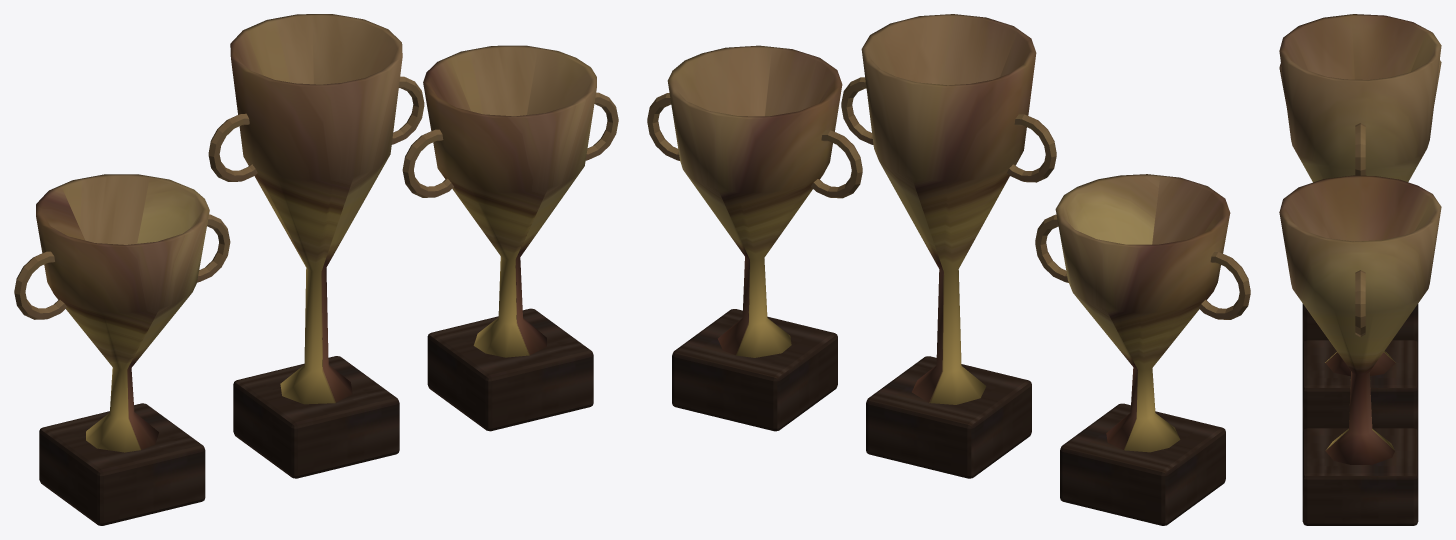
Rendered from SP21_TrophyCups.glb.
The picture shows the model from 3 angles, left to right: view 1: azimuth 30°, elevation 25°; view 2: azimuth 150°, elevation 25°; view 3: azimuth 270°, elevation 25°; orthographic projection. The views are drawn at different scales.
Parts seen in each view (by area): view 1: SP21_TrophyCups; view 2: SP21_TrophyCups; view 3: SP21_TrophyCups.
Boxes of the visible parts, x1,y1,x2,y2 form: SP21_TrophyCups: [14, 14, 618, 525]; SP21_TrophyCups: [647, 14, 1250, 525]; SP21_TrophyCups: [1279, 14, 1441, 525].
Size of the model in its own units: 0.4 by 0.25 by 0.1001.
Materials: 2 (2 with a texture image).
